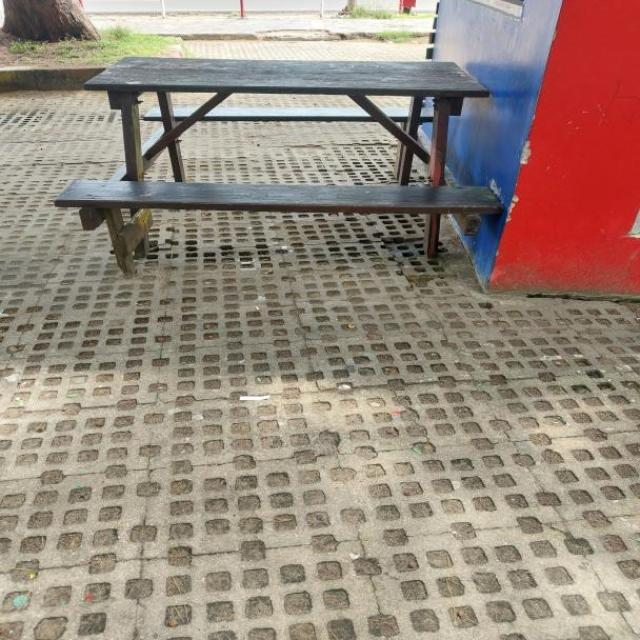Table ahead at: (92, 49, 494, 178)
